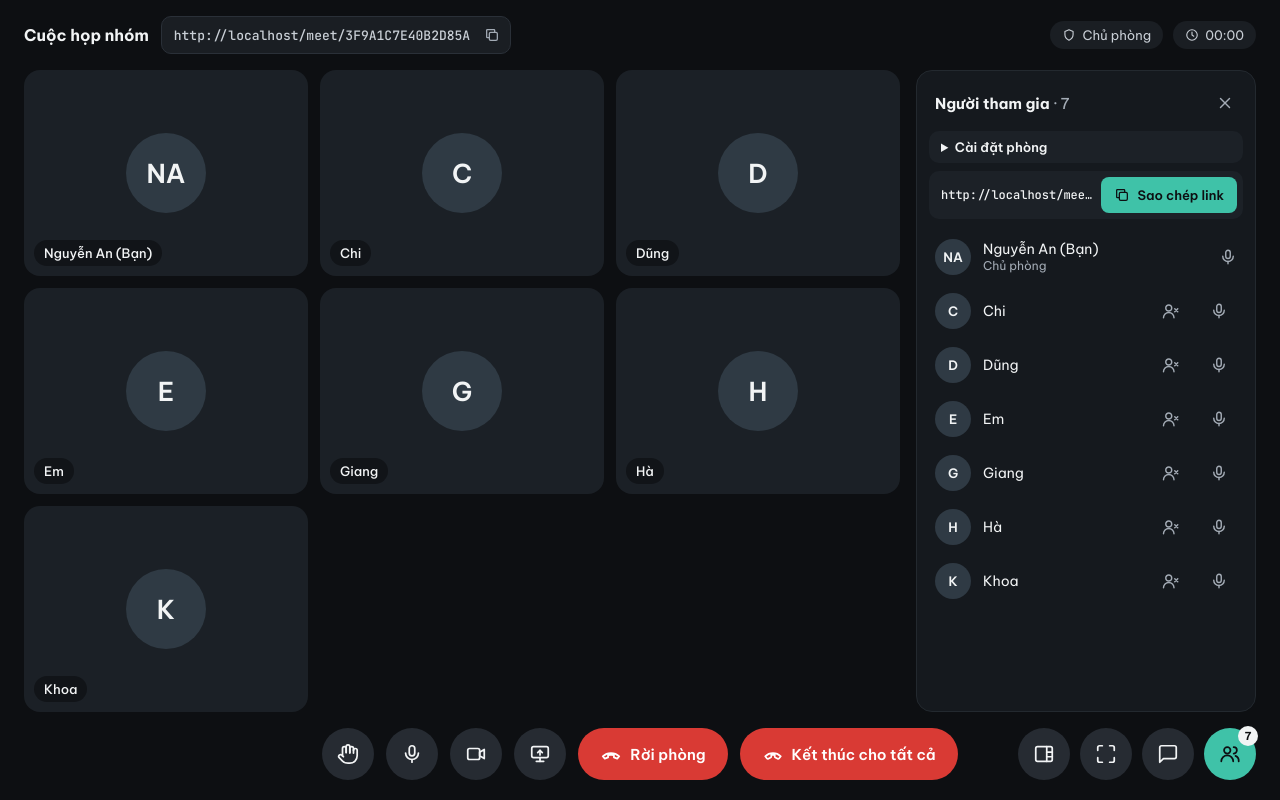
Test case: CallRoom cuộc họp nhóm › thanh bên đông người thì gộp thành "N người khác"
Click the button named "Bố cục thanh bên": [1044, 754] box [1018, 728, 1070, 780]
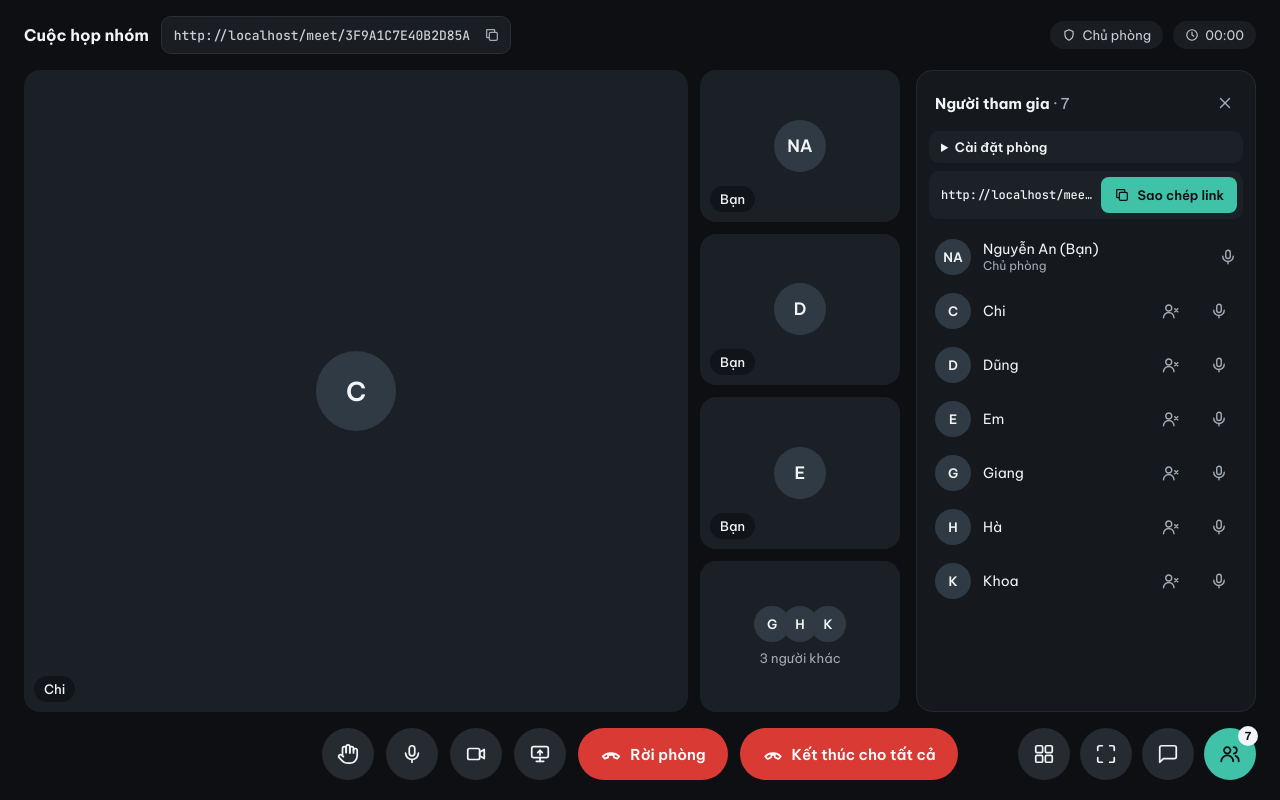
Expected: the text "3 người khác" is shown, [759, 650, 841, 666]
